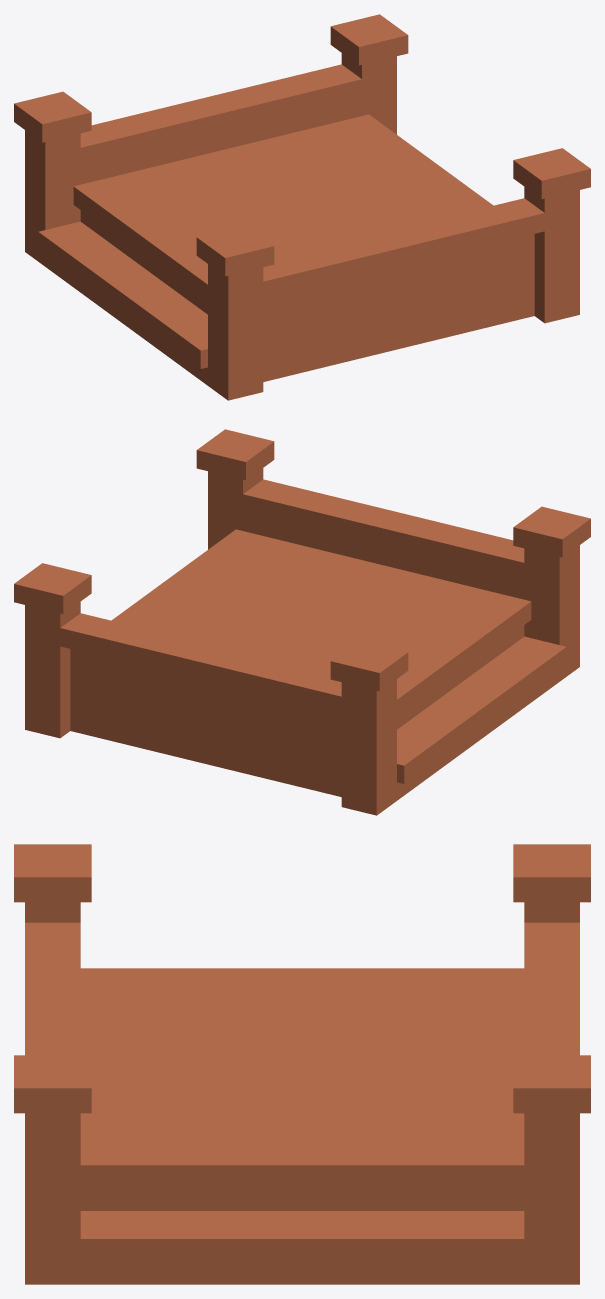
Rendered from span.glb.
3 views of the same model, one above another, from view 1: azimuth 30°, elevation 25°; view 2: azimuth 150°, elevation 25°; view 3: azimuth 270°, elevation 25° (orthographic). The views are drawn at different scales.
Size of the model in its own units: 10.4 by 4 by 10.4.
